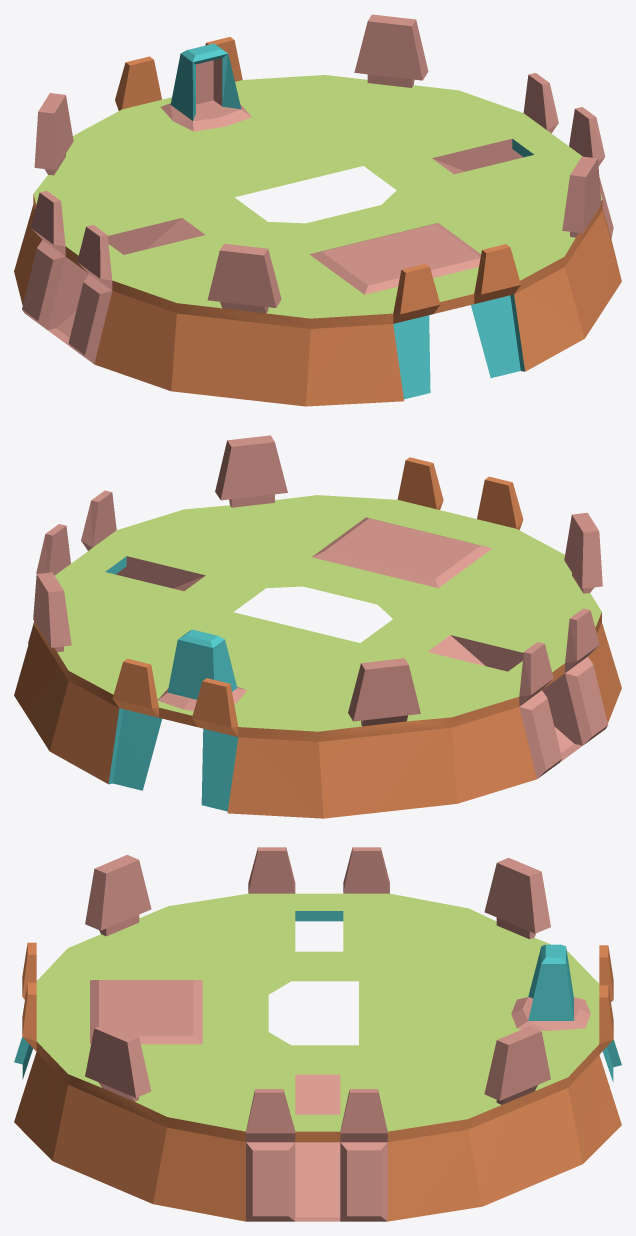
The model's file is cluster_7.fbx.
3 views of the same model, one above another, from view 1: azimuth 30°, elevation 25°; view 2: azimuth 150°, elevation 25°; view 3: azimuth 270°, elevation 25° (orthographic). The views are drawn at different scales.
Visible parts, largest first — view 1: cluster_7; view 2: cluster_7; view 3: cluster_7.
Part boxes in pixels (<box>): cluster_7: <box>14,14,621,406</box>; cluster_7: <box>14,435,621,818</box>; cluster_7: <box>14,847,621,1221</box>.
Bounding box in the file's own units: 108760 × 28307 × 106811.
